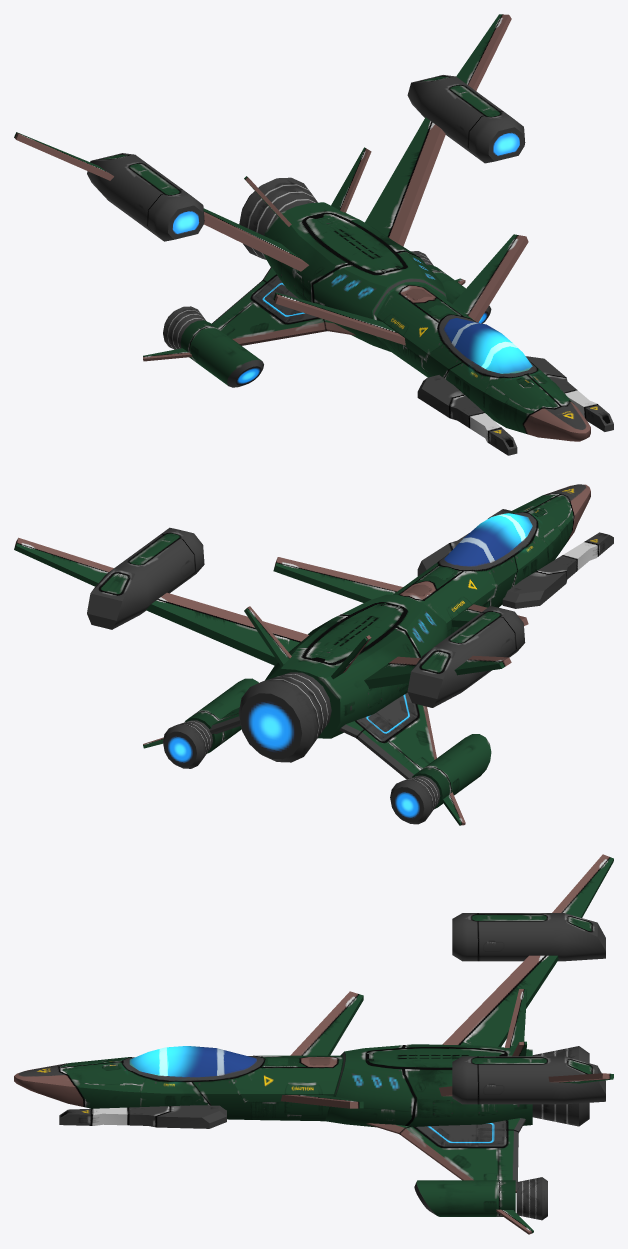
File: GreenLaserSpledner.fbx
3 renders of one model, top to bottom at view 1: azimuth 30°, elevation 25°; view 2: azimuth 150°, elevation 25°; view 3: azimuth 270°, elevation 25°, orthographic. The views are drawn at different scales.
Parts seen in each view (by area): view 1: StarSparrow10; view 2: StarSparrow10; view 3: StarSparrow10.
Boxes of the visible parts, <box> form: StarSparrow10: <box>14,14,613,455</box>; StarSparrow10: <box>14,484,613,825</box>; StarSparrow10: <box>14,854,613,1234</box>.
Bounding box in the file's own units: 987 × 424 × 1131.
Materials: 1 (1 with a texture image).
